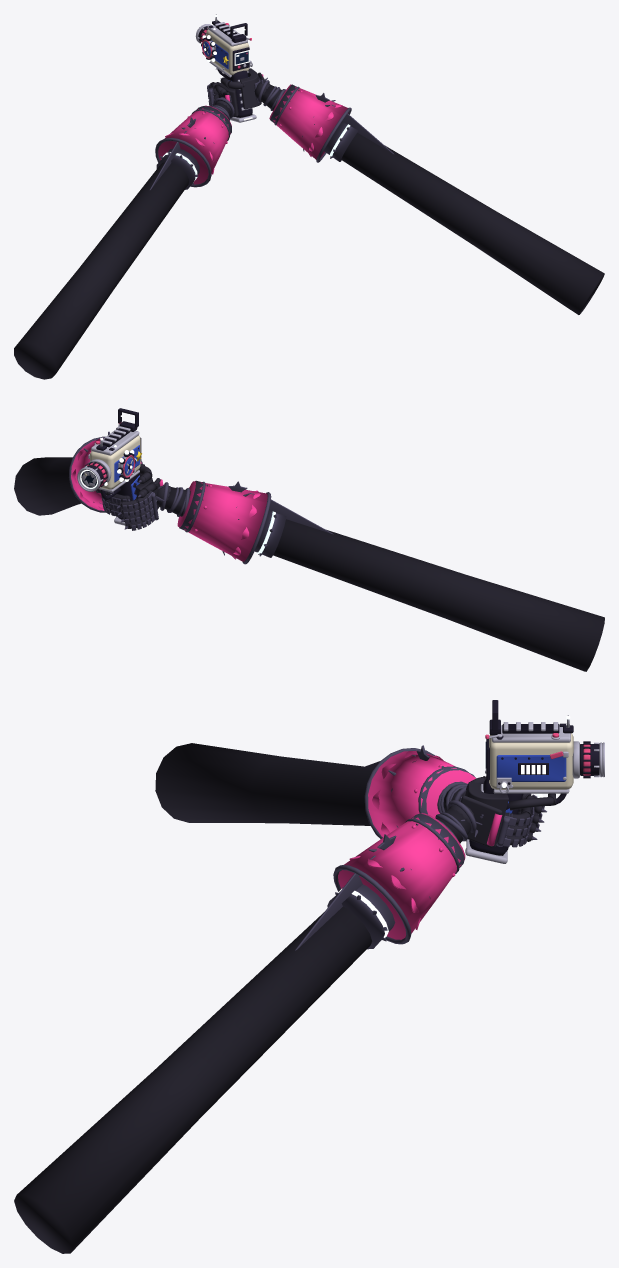
The model's file is shutterbug.glb.
3 views of the same model, one above another, from view 1: azimuth 30°, elevation 25°; view 2: azimuth 150°, elevation 25°; view 3: azimuth 270°, elevation 25° (orthographic). The views are drawn at different scales.
Parts seen in each view (by area): view 1: ArmR, ArmL, ArmRKitBell, ArmLKitBell, Shell; view 2: ArmL, ArmLKitBell, ArmR, Shell, ArmRKitBell, ArmLKitGauntlet, ArmLKitFins, ArmLKitWraps; view 3: ArmR, ArmL, Shell, ArmRKitBell, ArmLKitBell, ArmRKitMitten, ArmRKitGauntlet, ArmRKitFins, ArmRKitWraps.
Part boxes in pixels (x1=…): ArmR: x1=220, y1=68, x2=604, y2=314; ArmL: x1=14, y1=82, x2=238, y2=379; ArmRKitBell: x1=269, y1=84, x2=351, y2=162; ArmLKitBell: x1=155, y1=105, x2=231, y2=187; Shell: x1=195, y1=22, x2=256, y2=122; ArmL: x1=118, y1=478, x2=604, y2=671; ArmLKitBell: x1=177, y1=481, x2=271, y2=564; ArmR: x1=14, y1=457, x2=152, y2=515; Shell: x1=77, y1=426, x2=141, y2=525; ArmRKitBell: x1=69, y1=431, x2=142, y2=512; ArmLKitGauntlet: x1=122, y1=480, x2=212, y2=531; ArmLKitFins: x1=156, y1=493, x2=333, y2=534; ArmLKitWraps: x1=151, y1=482, x2=189, y2=520; ArmR: x1=14, y1=776, x2=556, y2=1253; ArmL: x1=155, y1=743, x2=542, y2=841; Shell: x1=464, y1=722, x2=604, y2=863; ArmRKitBell: x1=333, y1=813, x2=465, y2=944; ArmLKitBell: x1=364, y1=745, x2=475, y2=838; ArmRKitMitten: x1=461, y1=795, x2=502, y2=847; ArmRKitGauntlet: x1=411, y1=796, x2=534, y2=876; ArmRKitFins: x1=295, y1=821, x2=482, y2=950; ArmRKitWraps: x1=435, y1=800, x2=510, y2=846.
Size of the model in its own units: 2.26 by 0.9505 by 1.33.
